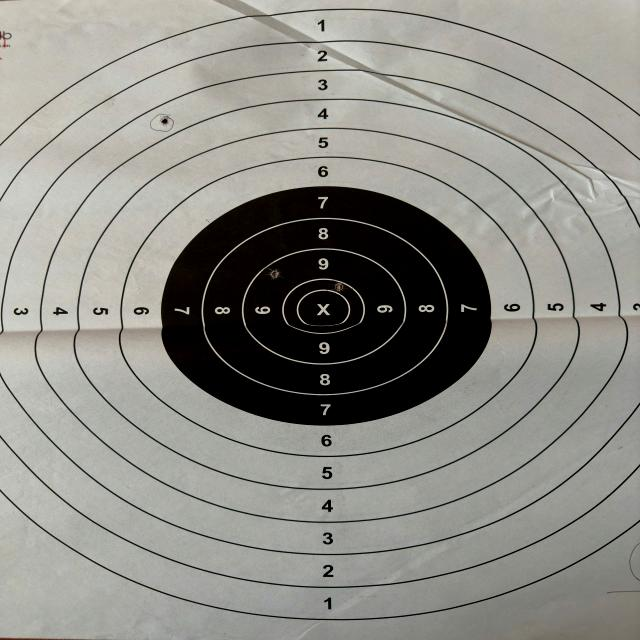bullet: (159, 116, 170, 126), (269, 269, 279, 278), (336, 283, 343, 291)
target: (0, 0, 640, 640)
